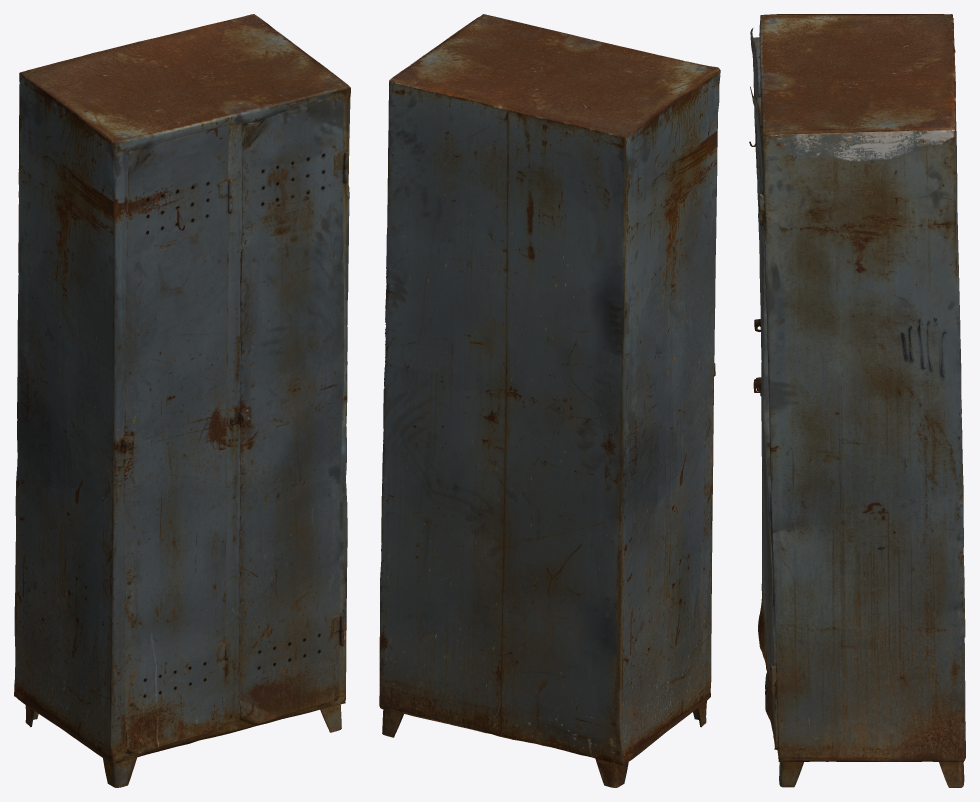
File: cabinetForHiding.glb
The picture shows the model from 3 angles, left to right: view 1: azimuth 30°, elevation 25°; view 2: azimuth 150°, elevation 25°; view 3: azimuth 270°, elevation 25°; orthographic projection.
Parts seen in each view (by area): view 1: Object_2; view 2: Object_2; view 3: Object_2.
Boxes of the visible parts, x1,y1,x2,y2 form: Object_2: [14, 14, 350, 787]; Object_2: [379, 14, 720, 787]; Object_2: [749, 14, 965, 787].
Size of the model in its own units: 0.6763 by 1.74 by 0.5209.
Materials: 1 (1 with a texture image).
